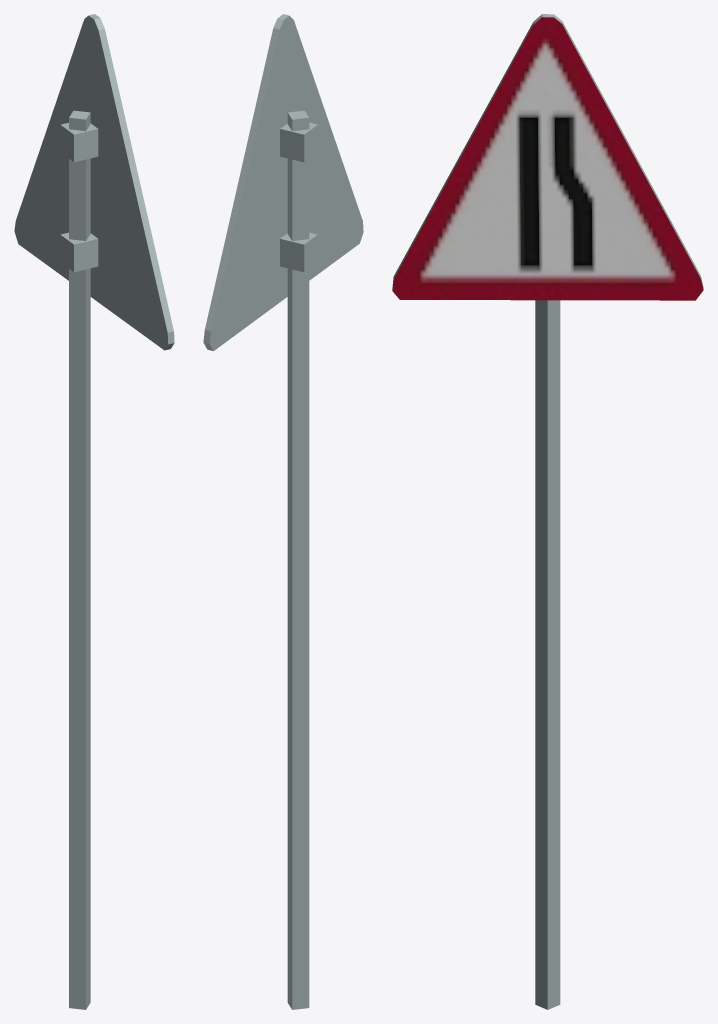
File: traffic sign 5.fbx
3 views of the same model, side by side, from view 1: azimuth 30°, elevation 25°; view 2: azimuth 150°, elevation 25°; view 3: azimuth 270°, elevation 25° (orthographic).
Visible parts, largest first — view 1: sign cycle form; view 2: sign cycle form; view 3: sign cycle form.
Part boxes in pixels (left/top/right/bottom): sign cycle form: left=14, top=14, right=174, bottom=1009; sign cycle form: left=203, top=14, right=363, bottom=1009; sign cycle form: left=392, top=14, right=703, bottom=1009.
Bounding box in the file's own units: 6.47 × 199 × 56.42.
